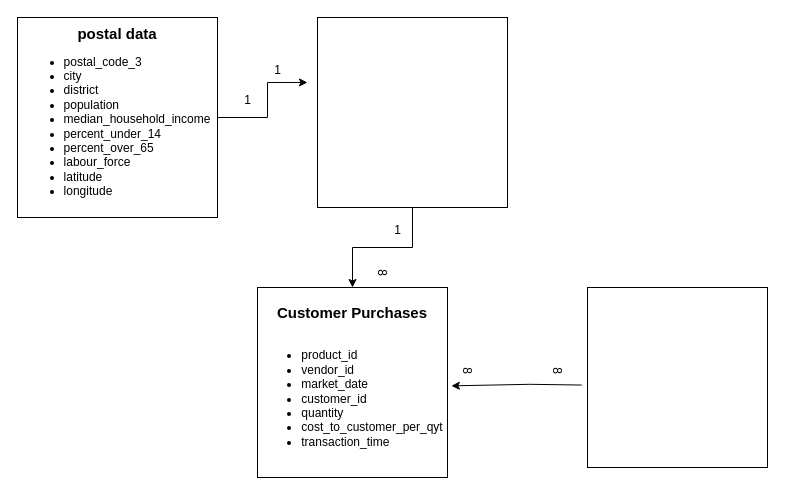
This 785x495 diagram has some shape labels left out. Each missing label, with the box of its shape:
Customer customer_id customer_first_name customer_last_name customer_postal_code: (316, 16, 508, 208)
Vendor_inventory market_date quantity vendor_id product_id original_price: (586, 286, 768, 468)
